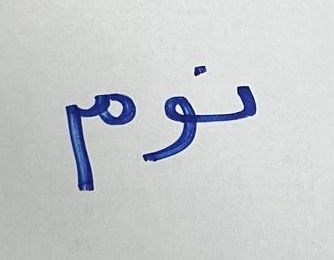dal: (196, 56, 261, 132)
meem: (54, 78, 138, 193)
waw: (141, 94, 195, 172)
